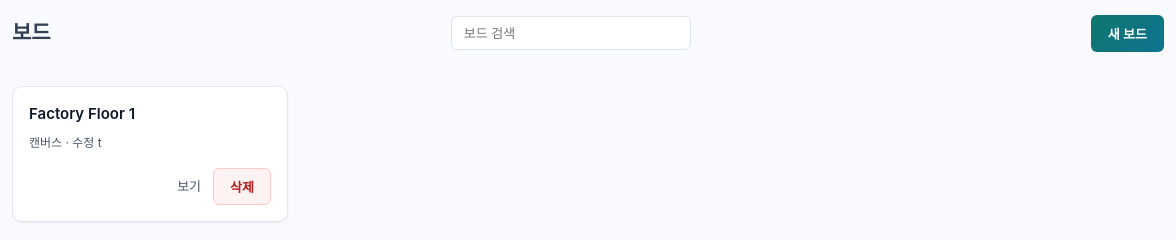
Scenario: BoardsListPage › shows a no-results empty state when the search query matches nothing, without hiding the create action
Expected: the link "Factory Floor 1" is shown, [29,104,135,123]
Type "nonexistent" into the search field labelled "보드 검색" at [571, 33], box [451,16,691,50]
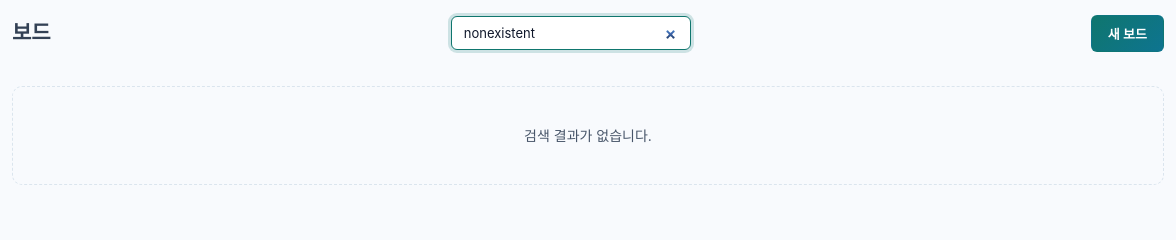
Expected: the button "새 보드" is shown, [1091,15,1164,52]
Result: the text "검색 결과가 없습니다." is shown at [524,125,652,146]
Result: the link "Factory Floor 1" is gone
